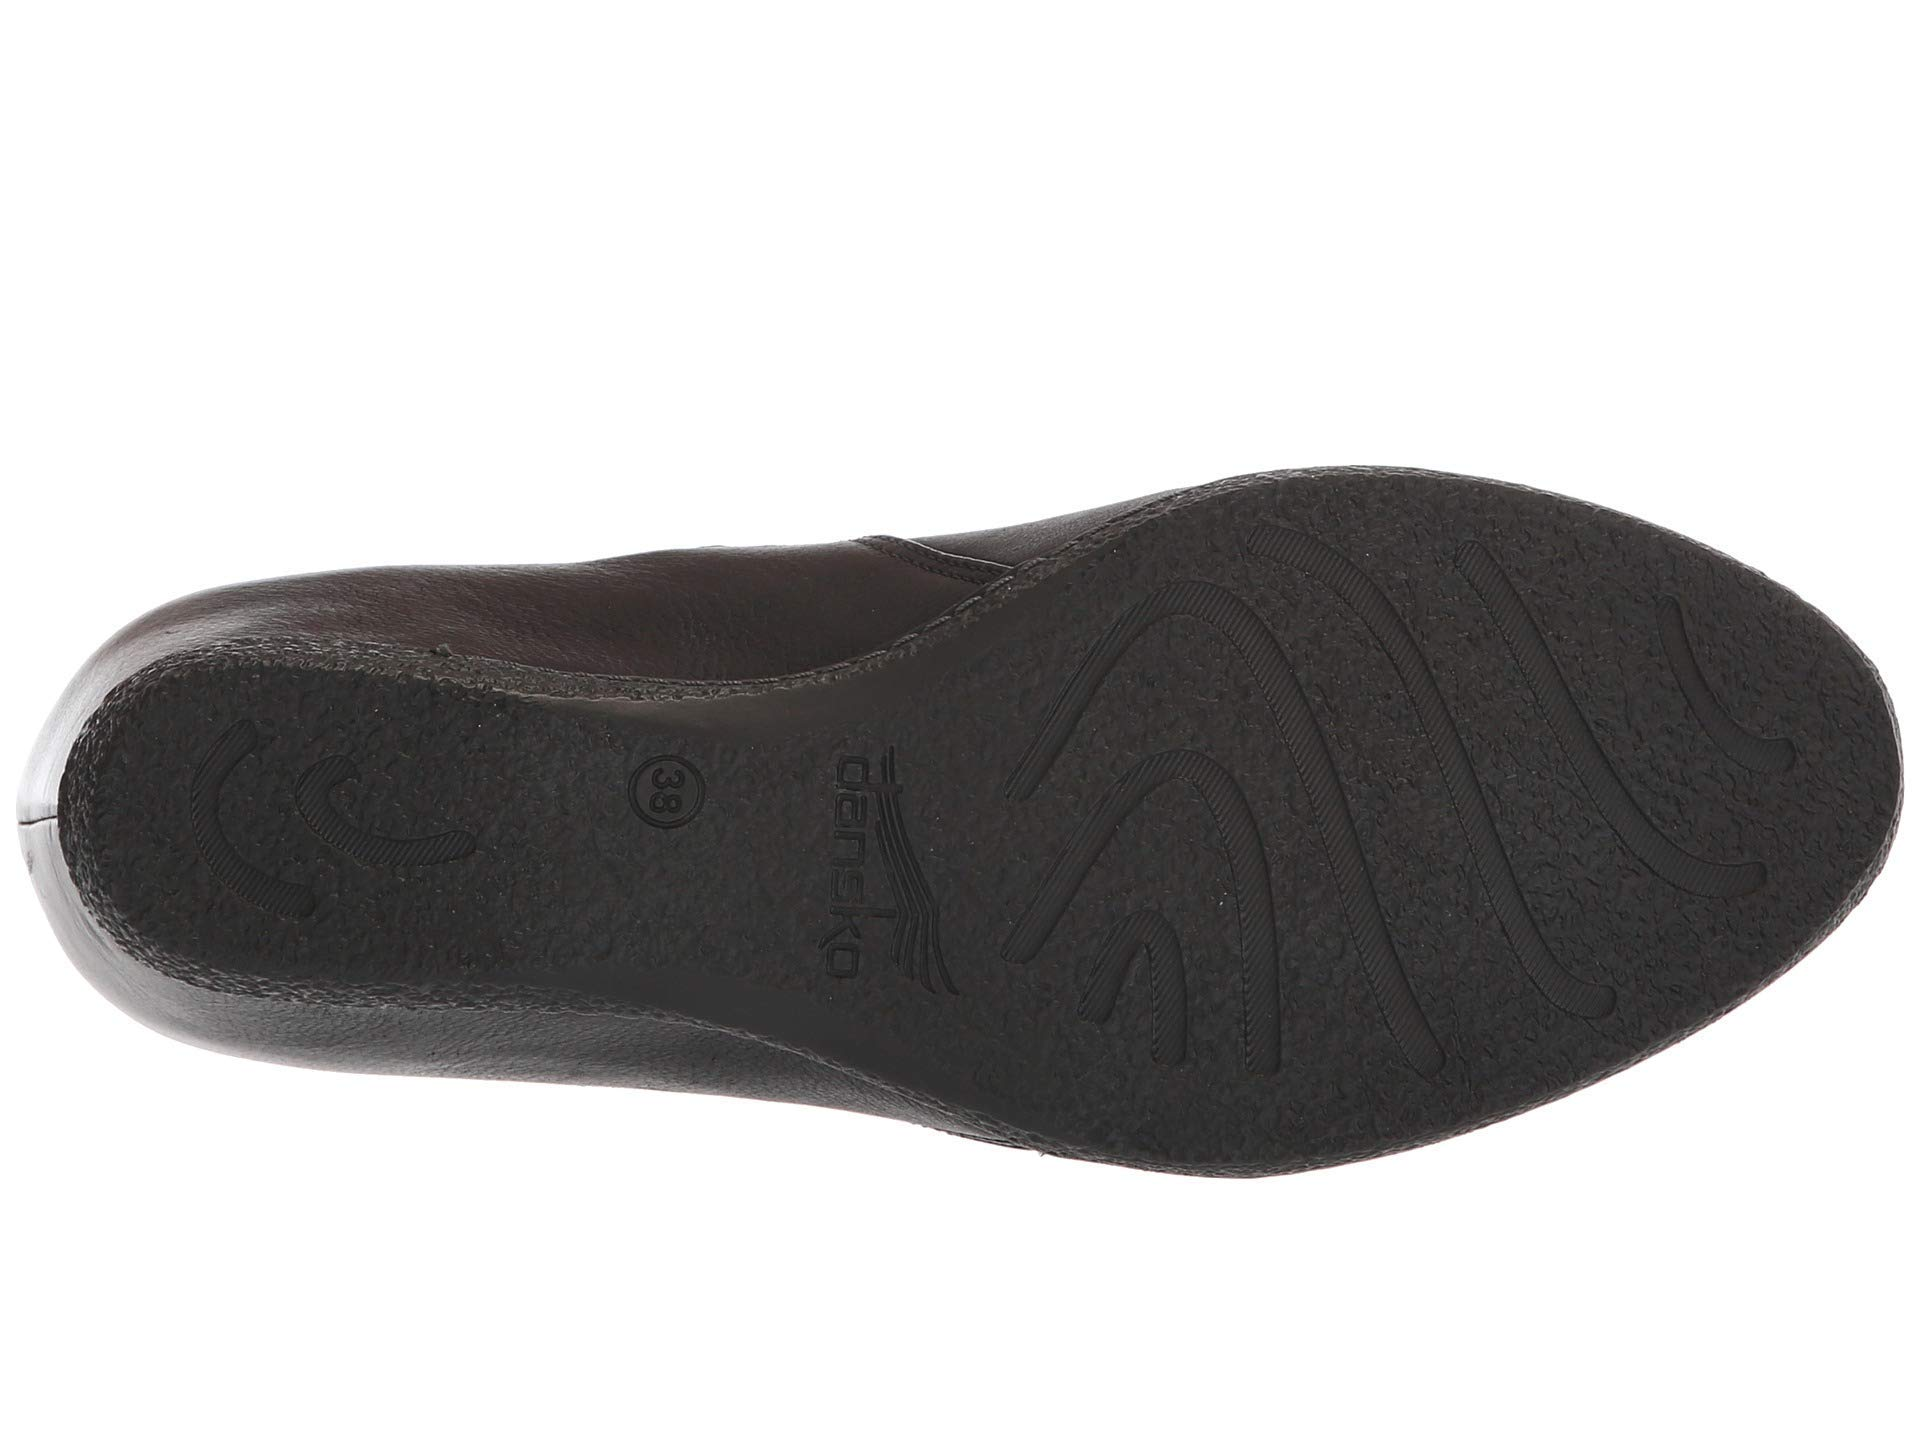chevron: (1002, 629, 1457, 1077)
circle: (786, 726, 1002, 998), (596, 737, 735, 849)
line: (786, 726, 1002, 998)
text: (786, 726, 1002, 998), (596, 737, 735, 849)
